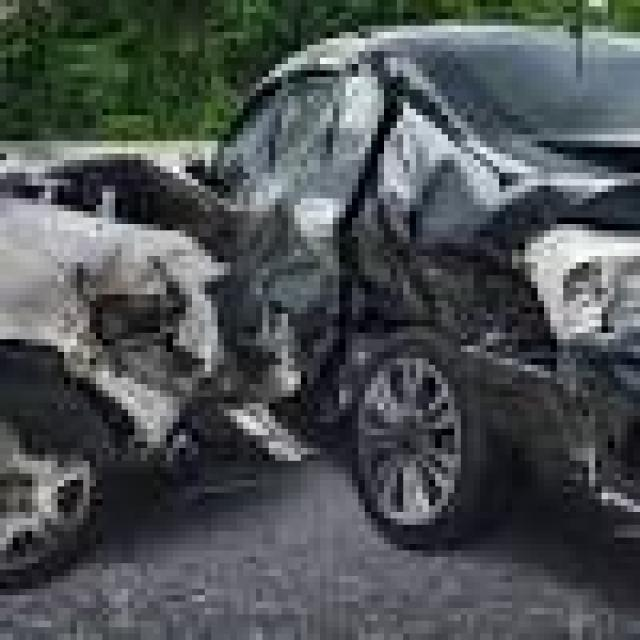severe: (16, 77, 598, 507)
